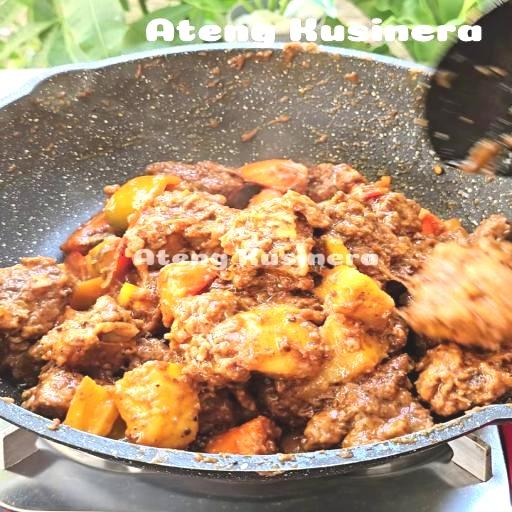pork caldereta: (0, 154, 511, 452)
